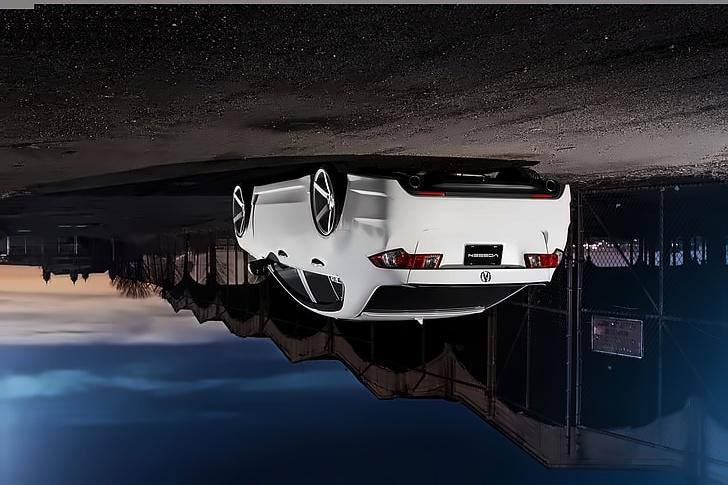Rear bumper: (342, 169, 590, 230)
Rear light - -L-: (519, 245, 566, 274)
Rear light - -R-: (364, 243, 445, 273)
